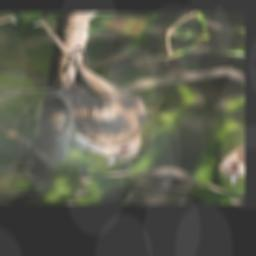Cuckoo: (0, 19, 203, 172)
